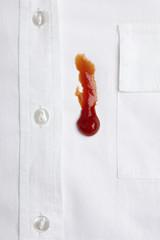gun: (71, 54, 99, 134)
